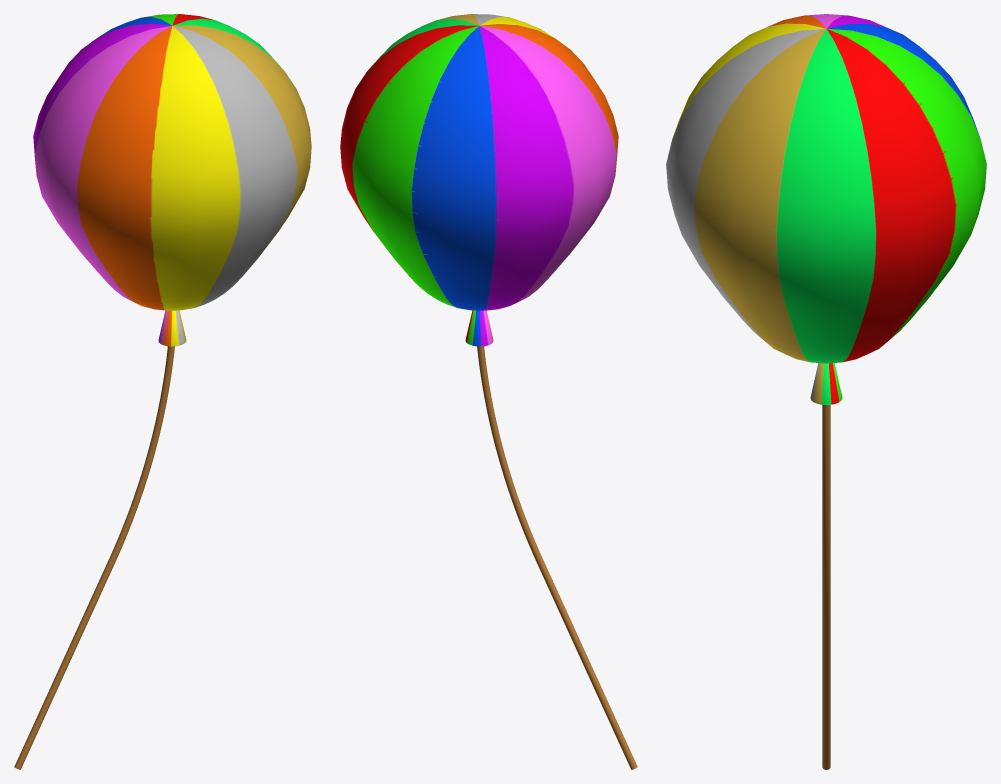
File: Balloon Rainbow.fbx
3 renders of one model, left to right at view 1: azimuth 30°, elevation 25°; view 2: azimuth 150°, elevation 25°; view 3: azimuth 270°, elevation 25°, orthographic. The views are drawn at different scales.
Parts seen in each view (by area): view 1: pCylinder2; view 2: pCylinder2; view 3: pCylinder2.
Part boxes in pixels (left/top/right/bottom): pCylinder2: left=14, top=14, right=311, bottom=769; pCylinder2: left=340, top=14, right=637, bottom=769; pCylinder2: left=666, top=14, right=986, bottom=769.
Size of the model in its own units: 11.48 by 27.67 by 9.71.
Materials: 1 (1 with a texture image).
